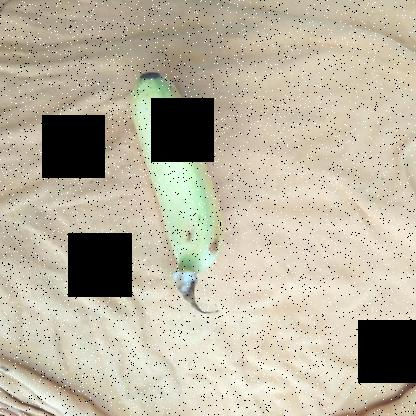freshripe: (118, 69, 221, 276)
